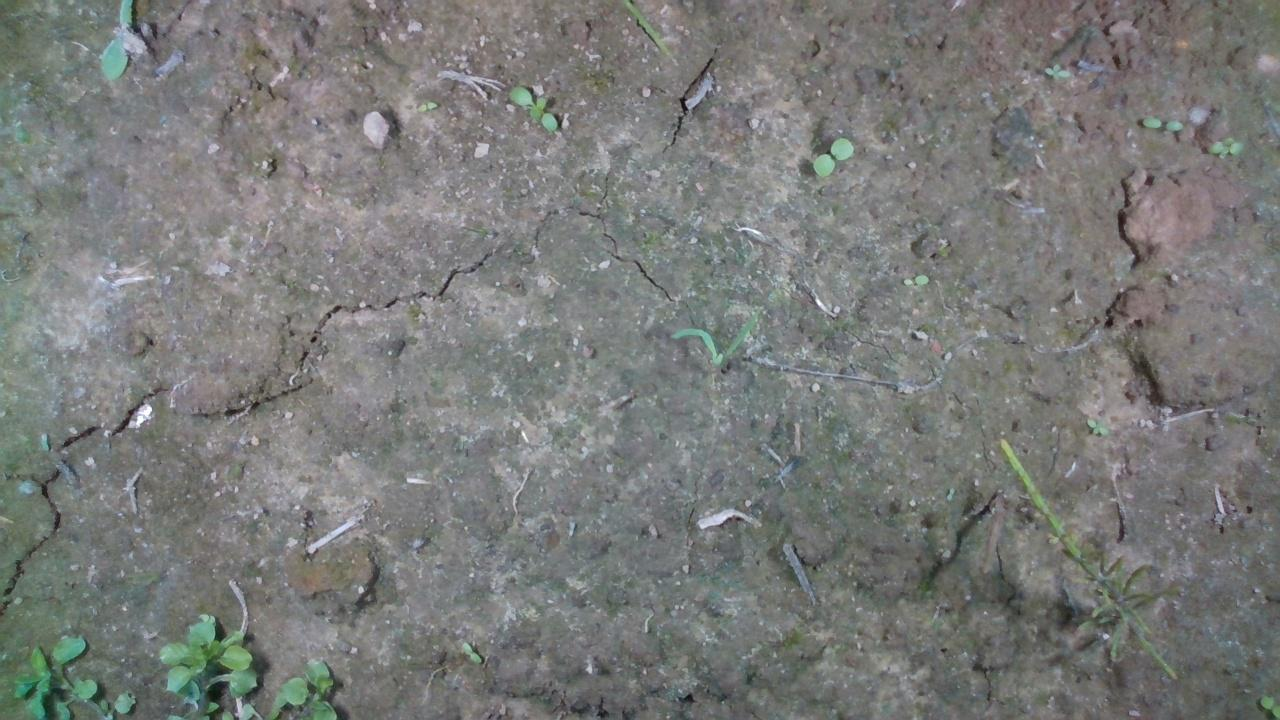weed: (504, 84, 558, 131), (810, 135, 854, 176), (1206, 134, 1244, 159), (1139, 114, 1183, 130), (1042, 61, 1070, 82)
